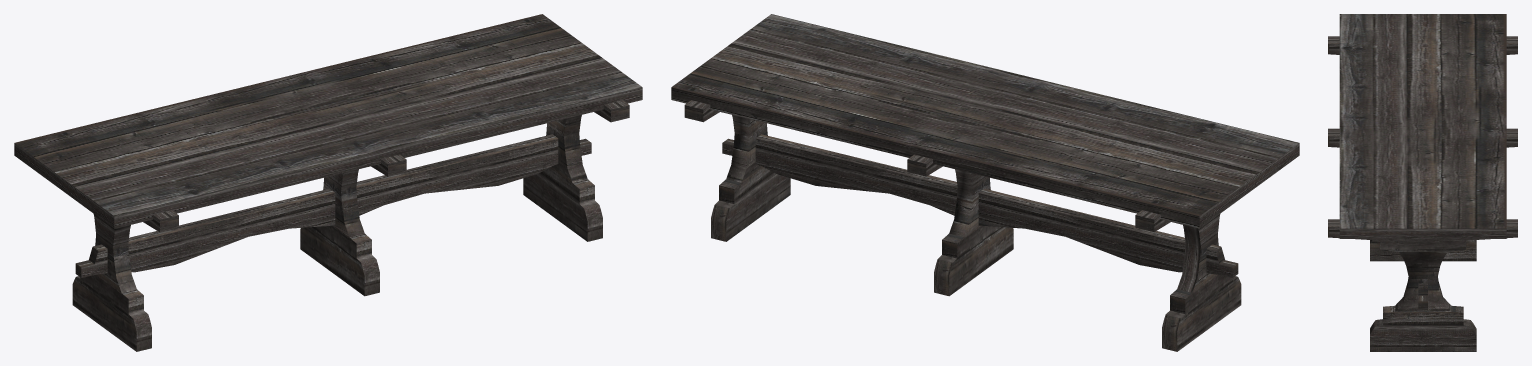
Rendered from TrestleTable.dae.
The picture shows the model from 3 angles, left to right: view 1: azimuth 30°, elevation 25°; view 2: azimuth 150°, elevation 25°; view 3: azimuth 270°, elevation 25°; orthographic projection. The views are drawn at different scales.
Visible parts, largest first — view 1: meshU3D; view 2: meshU3D; view 3: meshU3D.
Boxes of the visible parts, x1=… form: meshU3D: x1=14, y1=14, x2=642, y2=351; meshU3D: x1=671, y1=14, x2=1299, y2=351; meshU3D: x1=1328, y1=14, x2=1517, y2=351.
Size of the model in its own units: 108 by 30.91 by 40.22.
